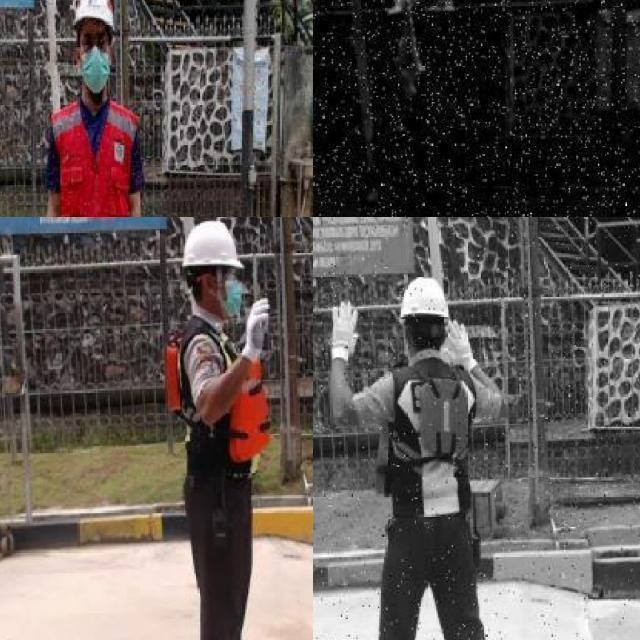apron: (382, 3, 428, 82), (329, 298, 360, 366), (242, 295, 270, 363), (442, 322, 478, 371)
